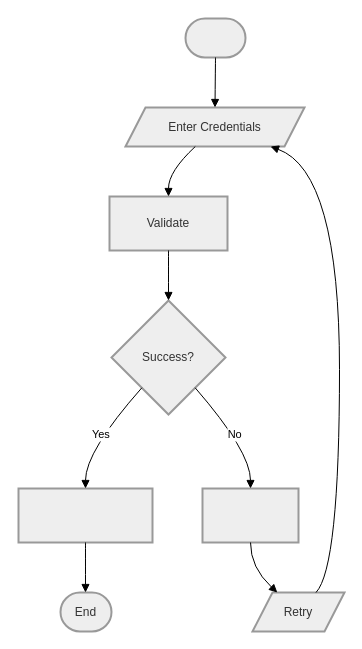
This 362x649 diagram has some shape labels left out. The centre of each missing label's shape, as x and y in pixels:
"Dashboard" goes at point 85,515.
"Error" goes at point 250,515.
"Start" goes at point 215,37.
